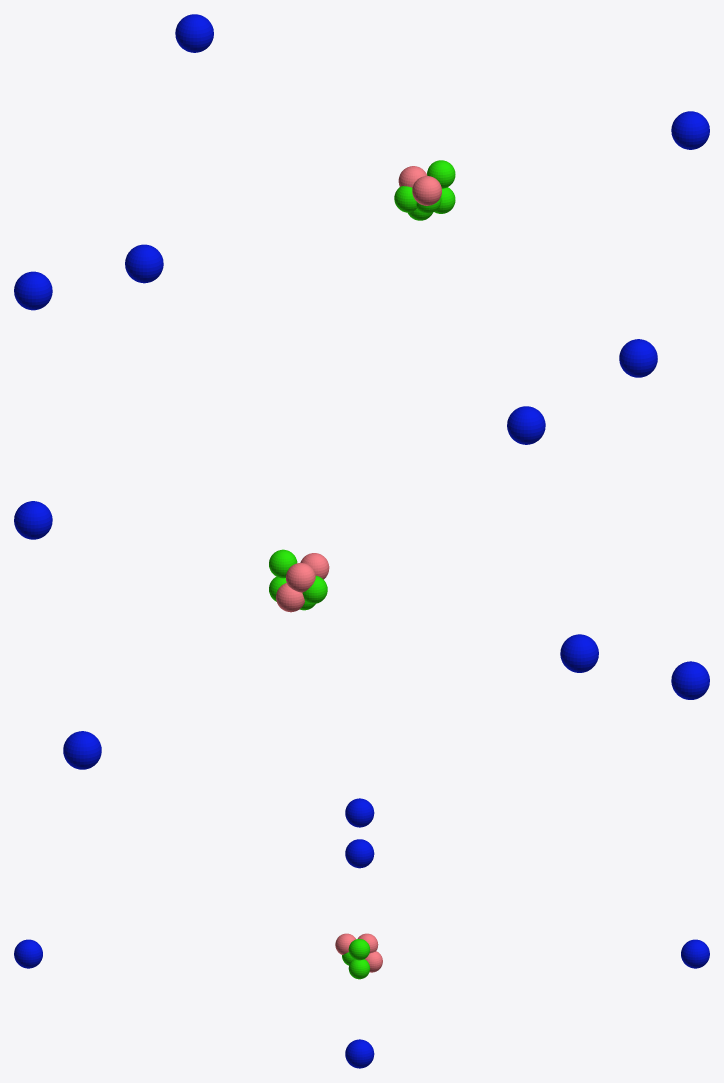
File: boron.glb
3 views of the same model, one above another, from view 1: azimuth 30°, elevation 25°; view 2: azimuth 150°, elevation 25°; view 3: azimuth 270°, elevation 25° (orthographic). The views are drawn at different scales.
Visible parts, largest first — view 1: Sphere.007, Sphere.011, Sphere.006, Sphere.012, Sphere.008, Sphere.010; view 2: Sphere.007, Sphere.008, Sphere.012, Sphere.006, Sphere.011, Sphere.001, Sphere.002, Sphere.013; view 3: Sphere.006, Sphere.012, Sphere.008, Sphere.011, Sphere.007.
Part boxes in pixels (x1,y1,x2,y2): Sphere.007: (125,244,163,283); Sphere.011: (175,14,213,52); Sphere.006: (671,111,709,149); Sphere.012: (14,271,52,310); Sphere.008: (619,339,657,377); Sphere.010: (412,176,441,205); Sphere.007: (560,634,598,672); Sphere.008: (507,406,545,444); Sphere.012: (671,661,709,699); Sphere.006: (14,501,52,539); Sphere.011: (63,731,101,769); Sphere.001: (286,563,315,592); Sphere.002: (276,583,304,612); Sphere.013: (269,549,297,578); Sphere.006: (345,1039,374,1068); Sphere.012: (345,798,374,827); Sphere.008: (14,939,42,968); Sphere.011: (681,939,709,968); Sphere.007: (345,839,374,868).
Bounding box in the file's own units: 2.92 × 0.2134 × 3.39.
